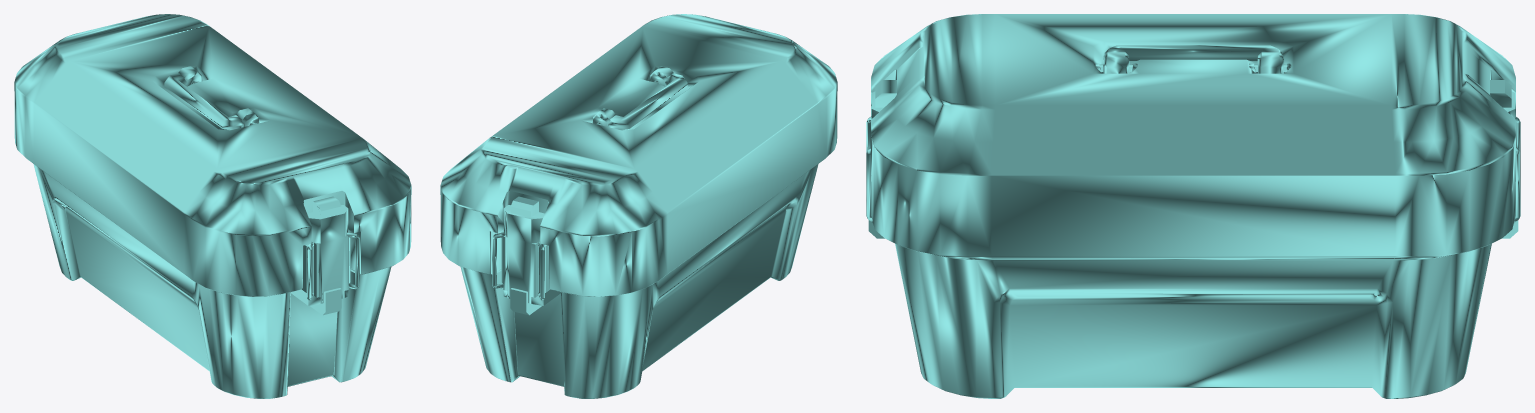
File: uee_lawless_prop_storagecontainer_02.glb
3 renders of one model, left to right at view 1: azimuth 30°, elevation 25°; view 2: azimuth 150°, elevation 25°; view 3: azimuth 270°, elevation 25°, orthographic. The views are drawn at different scales.
Bounding box in the file's own units: 0.5 × 0.5154 × 1.01.
